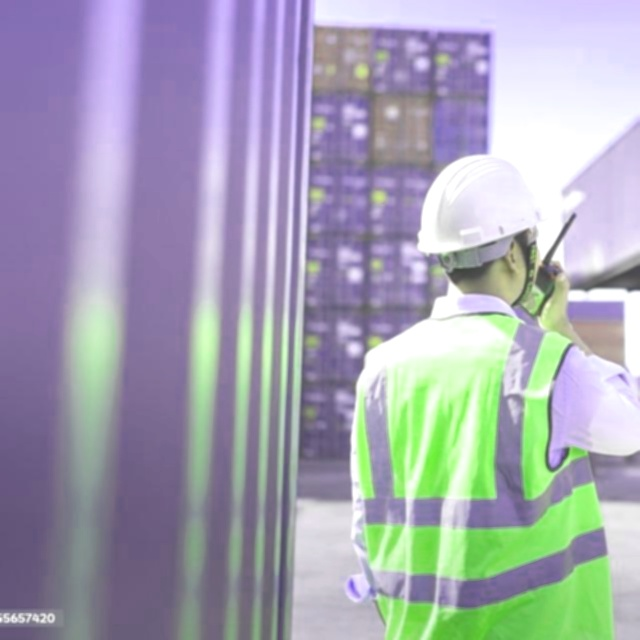Con_Casco: (419, 151, 553, 301)
Con_Chaleco: (361, 313, 612, 640)
